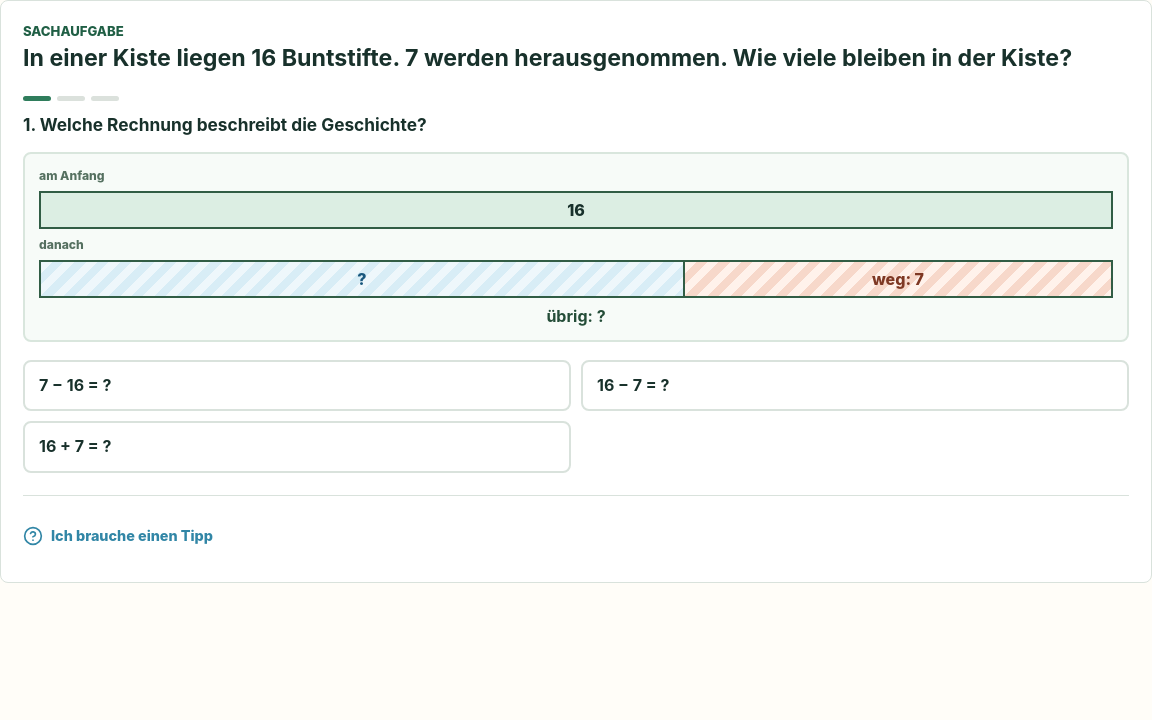
Test: ExerciseCard › zeigt beim sichtbaren Sachaufgabenmodell konkrete Hilfen ohne technischen Status
The image size is (1152, 720).
What coordinates should you click on to do the following:
click the button "Ich brauche einen Tipp"
I would click on:
 (118, 536)
Its box is [23, 512, 213, 560].
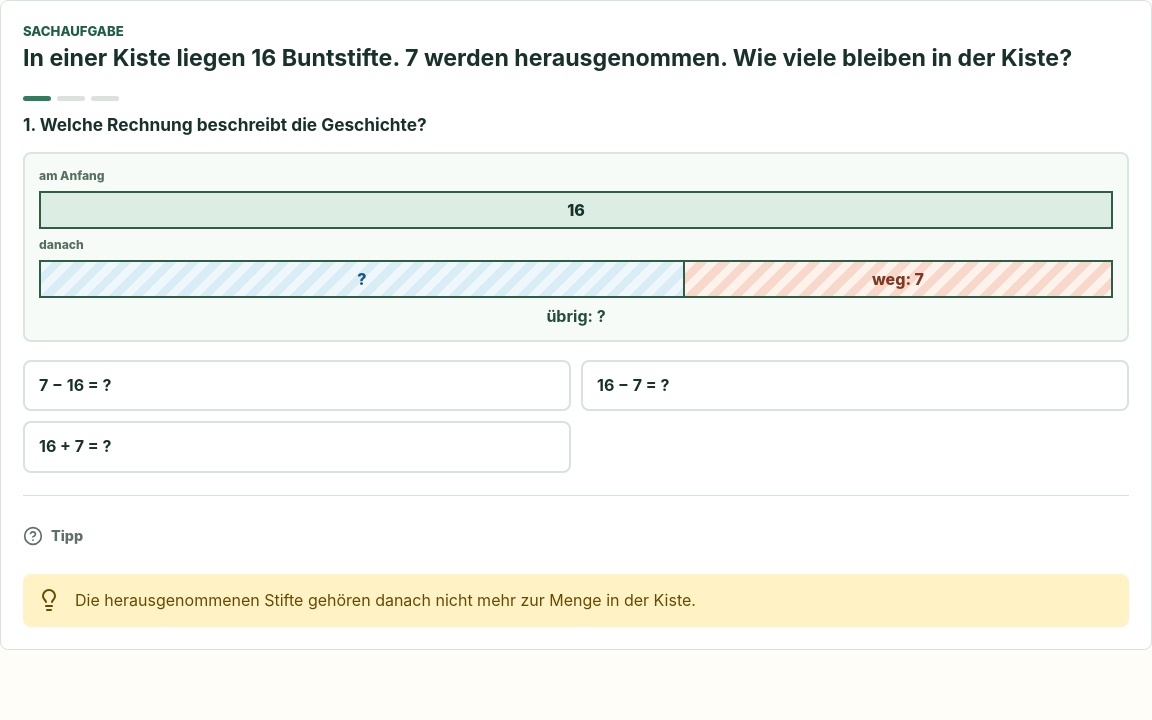
expect the text "Die herausgenommenen Stifte gehören danach nicht mehr zur Menge in der Kiste." is shown: met, box [75, 590, 696, 610]
